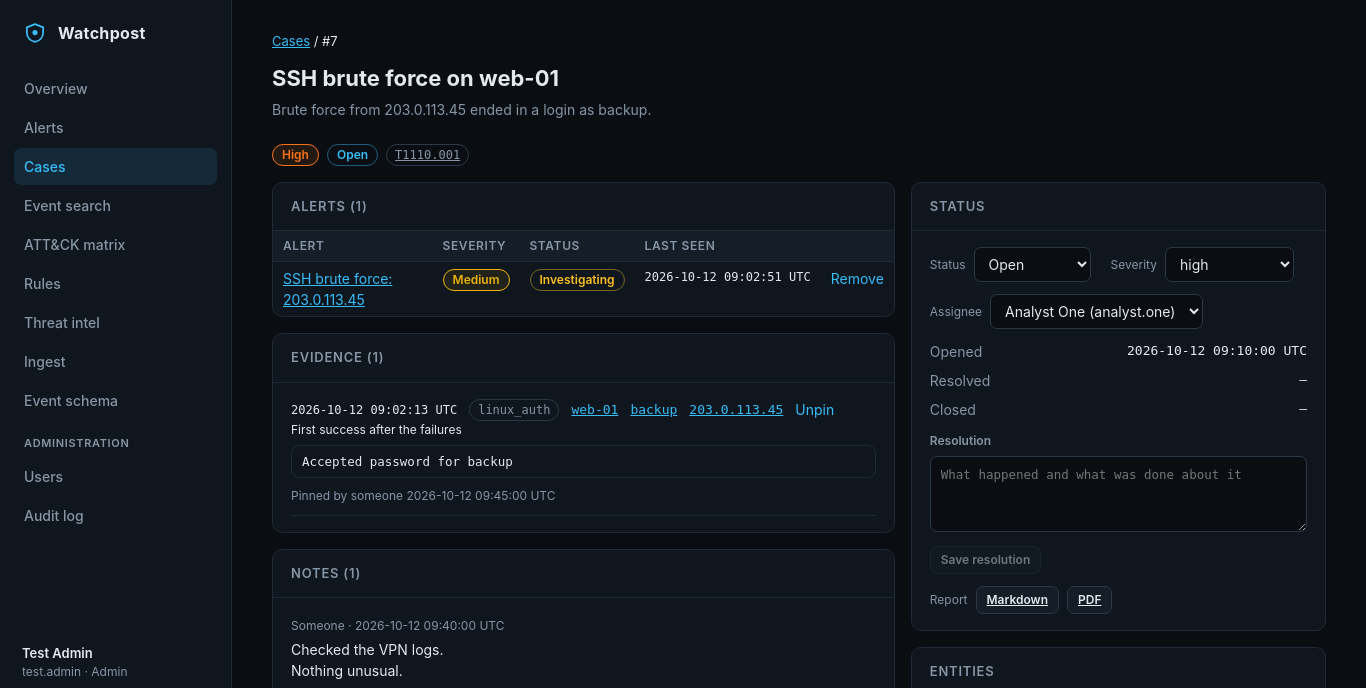
it: CasePage › shows errors from the API
Select "Closed" in the dropdown labelled "Status" at (1032, 264), box [974, 247, 1091, 282]
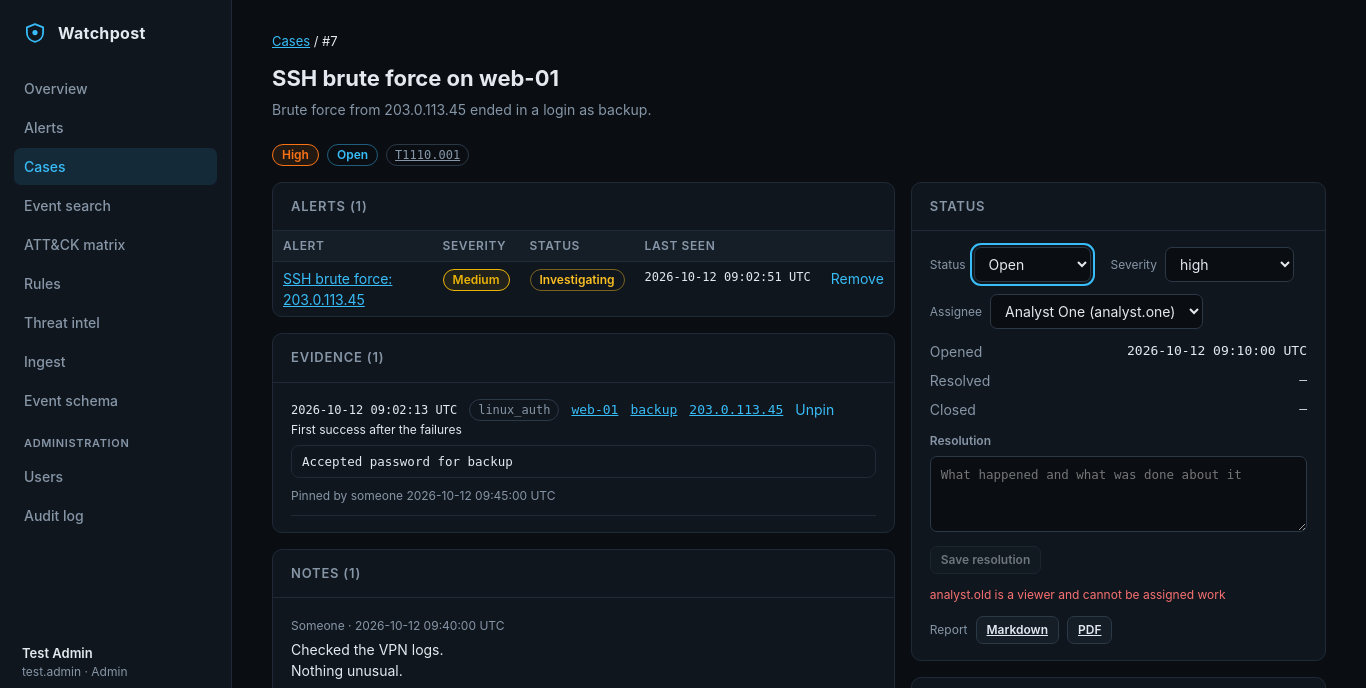
Result: the message shows "cannot be assigned work" at [930, 587, 1226, 602]
